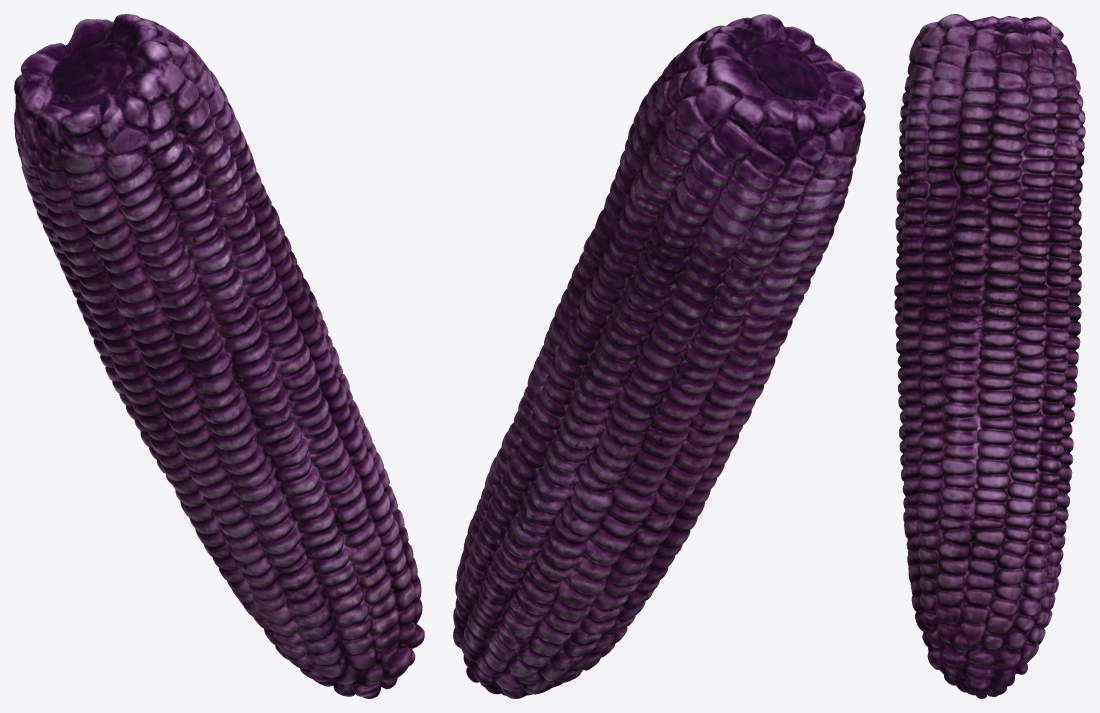
3 views of the same model, side by side, from view 1: azimuth 30°, elevation 25°; view 2: azimuth 150°, elevation 25°; view 3: azimuth 270°, elevation 25° (orthographic). The views are drawn at different scales.
Parts seen in each view (by area): view 1: Object_5, Object_10, Object_4, Object_8, Object_3, Object_2, Object_7, Object_6, Object_11, Object_9; view 2: Object_2, Object_3, Object_9, Object_4, Object_6, Object_5, Object_8, Object_7, Object_11, Object_10; view 3: Object_7, Object_8, Object_9, Object_10, Object_6, Object_11, Object_2.
Part boxes in pixels (x1=…): Object_5: x1=54, y1=117, x2=361, y2=696; Object_10: x1=207, y1=132, x2=424, y2=698; Object_4: x1=14, y1=115, x2=299, y2=668; Object_8: x1=150, y1=41, x2=421, y2=666; Object_3: x1=14, y1=15, x2=253, y2=604; Object_2: x1=14, y1=14, x2=170, y2=150; Object_7: x1=152, y1=28, x2=404, y2=595; Object_6: x1=17, y1=18, x2=345, y2=667; Object_11: x1=15, y1=29, x2=417, y2=681; Object_9: x1=111, y1=21, x2=323, y2=327; Object_2: x1=532, y1=14, x2=862, y2=537; Object_3: x1=498, y1=34, x2=856, y2=675; Object_9: x1=455, y1=19, x2=748, y2=662; Object_4: x1=501, y1=85, x2=865, y2=694; Object_6: x1=503, y1=36, x2=863, y2=641; Object_5: x1=499, y1=67, x2=865, y2=691; Object_8: x1=455, y1=19, x2=741, y2=614; Object_7: x1=478, y1=17, x2=784, y2=522; Object_11: x1=453, y1=25, x2=826, y2=698; Object_10: x1=453, y1=203, x2=664, y2=698; Object_7: x1=898, y1=26, x2=1080, y2=563; Object_8: x1=899, y1=27, x2=1074, y2=635; Object_9: x1=896, y1=28, x2=1083, y2=643; Object_10: x1=894, y1=102, x2=1080, y2=698; Object_6: x1=907, y1=32, x2=1081, y2=554; Object_11: x1=895, y1=29, x2=1079, y2=684; Object_2: x1=916, y1=14, x2=1085, y2=452.
Size of the model in its own units: 97.42 by 174 by 51.28.
Materials: 1 (1 with a texture image).
